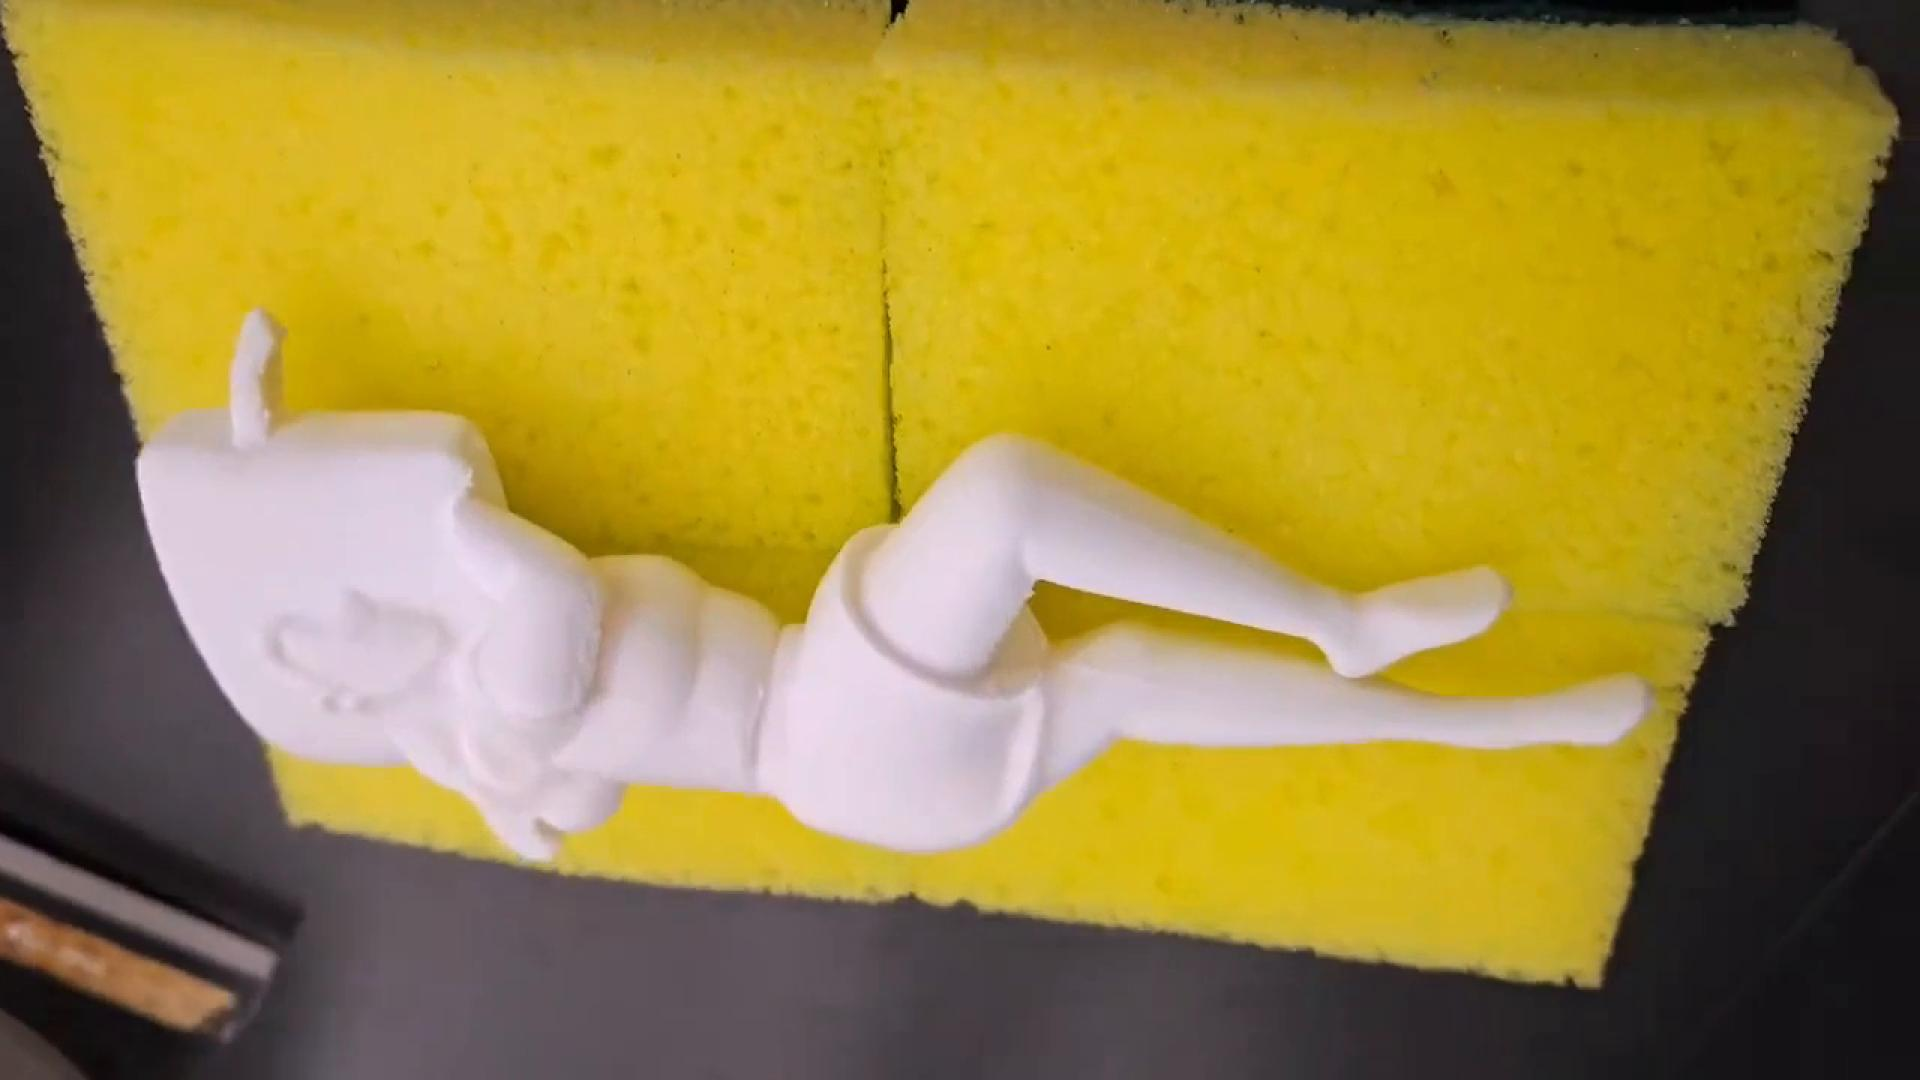Good-style: (58, 274, 1725, 893)
